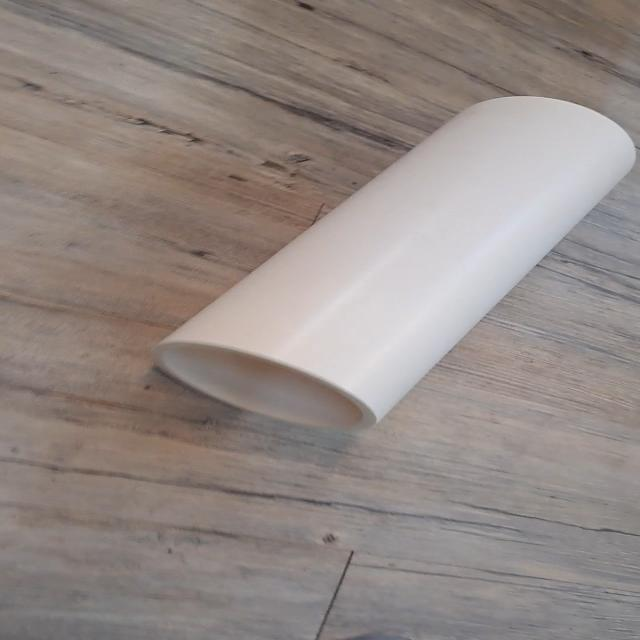CORAL: (134, 77, 640, 437)
